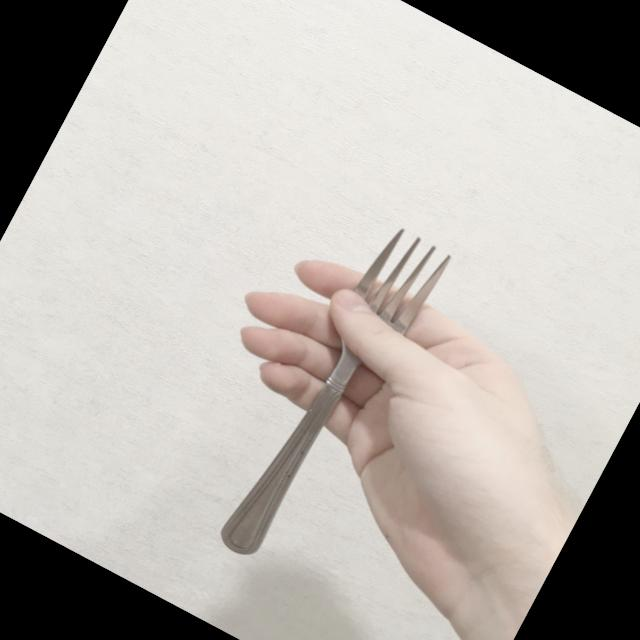fork: (214, 219, 456, 579)
